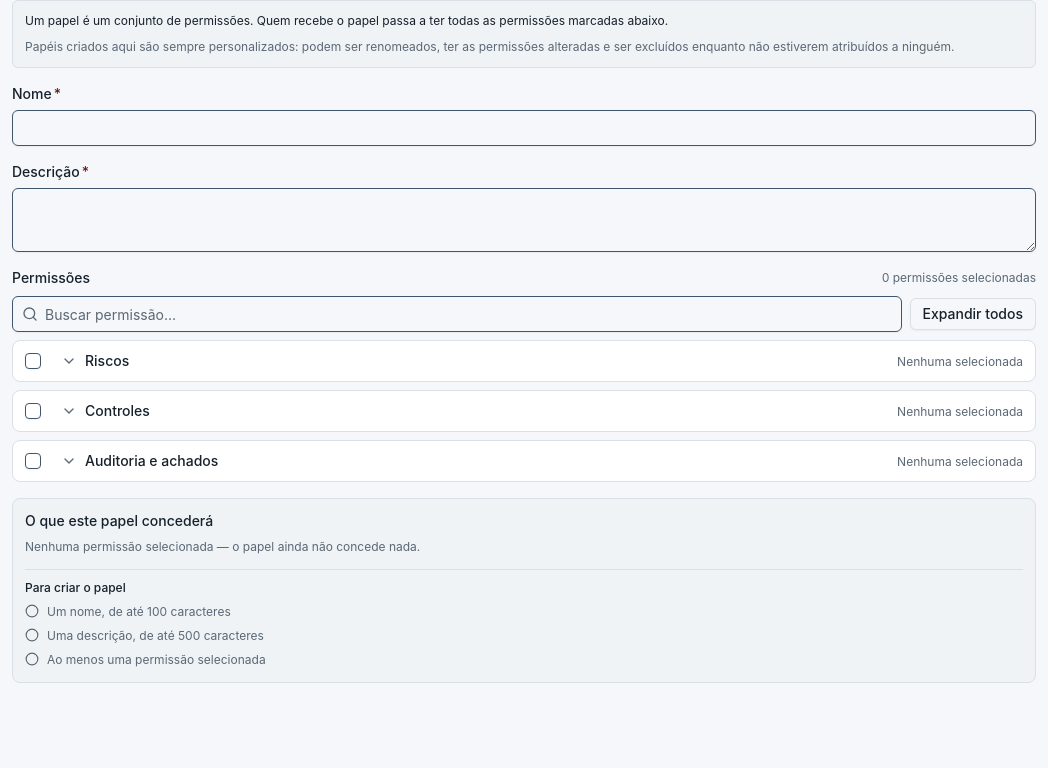
Scenario: RoleEditFields — searching the permission tree (migrated from PermissionChecklist) › keeps a module toggle meaning the WHOLE module while the search is narrowing it
Check: the button "Riscos Nenhuma selecionada" is shown, box [49,341,1035,381]
In the field labelled "Buscar permissão": coordinates (457, 314) [12,296,902,332], type "risk:edit"
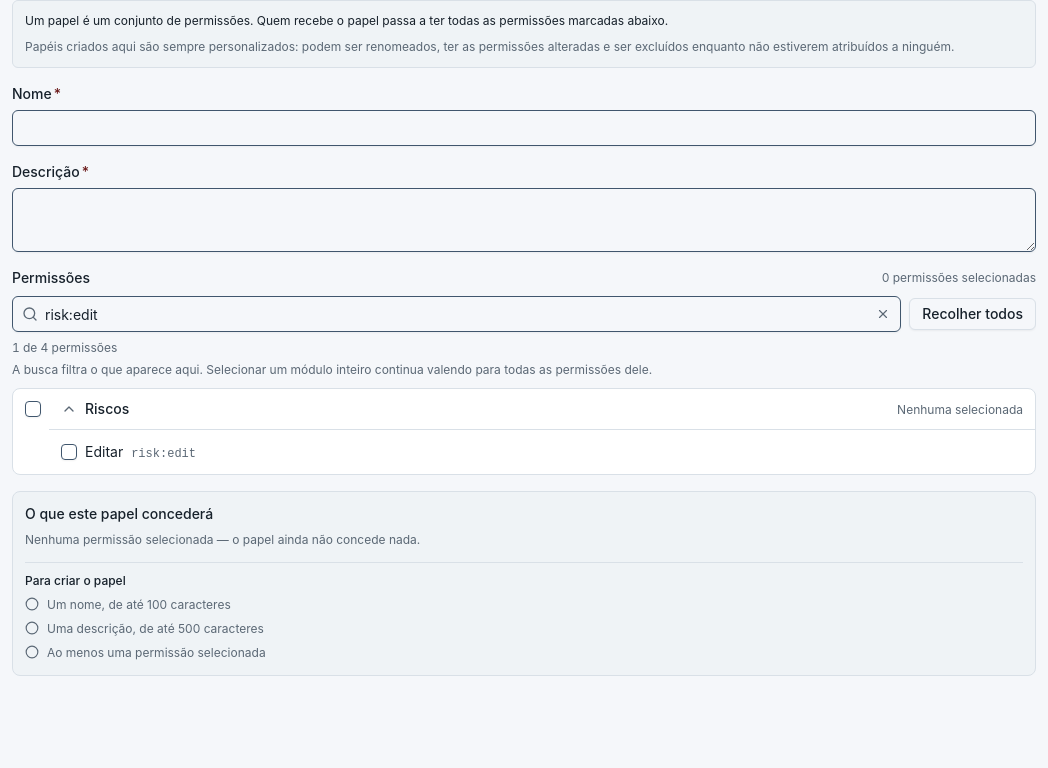
Check: the text "1 de 4 permissões" is shown, box [12,340,117,355]
Check: the text "A busca filtra o que aparece aqui. Selecionar um módulo inteiro continua valendo para todas as permissões dele." is shown, box [12,362,652,377]
Click the checkbox named "Selecionar todas as permissões de Riscos": coordinates (33, 409) [25,401,41,417]
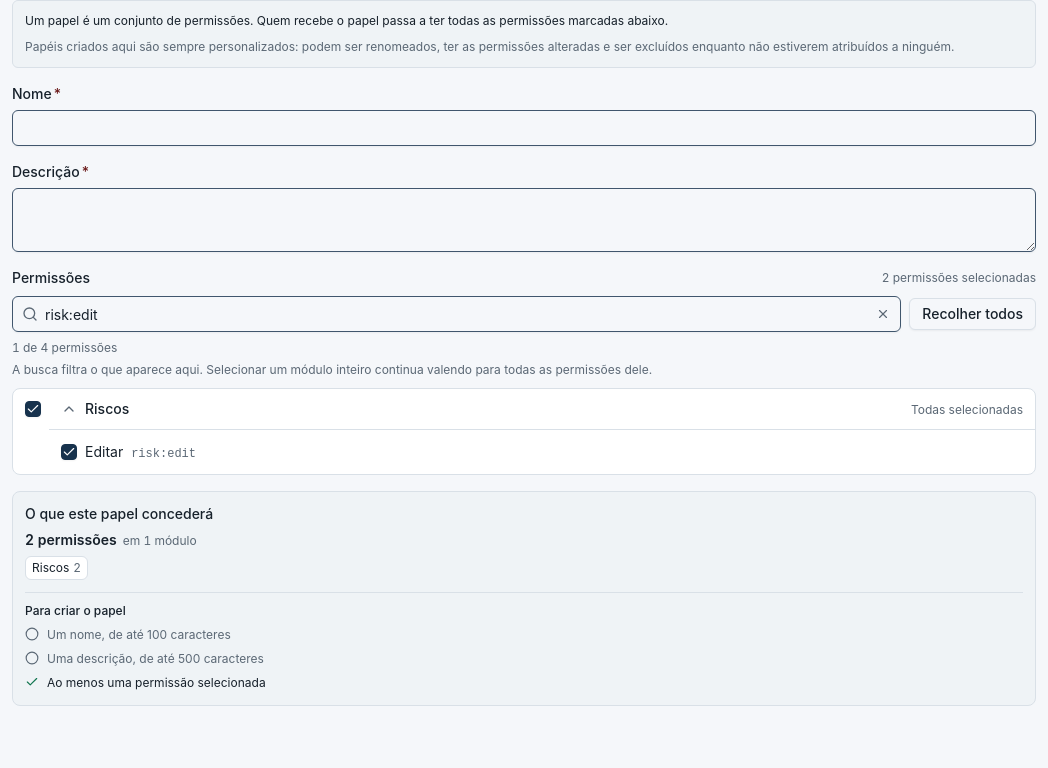
Check: the text "2 permissões selecionadas" is shown, box [882,270,1036,286]
